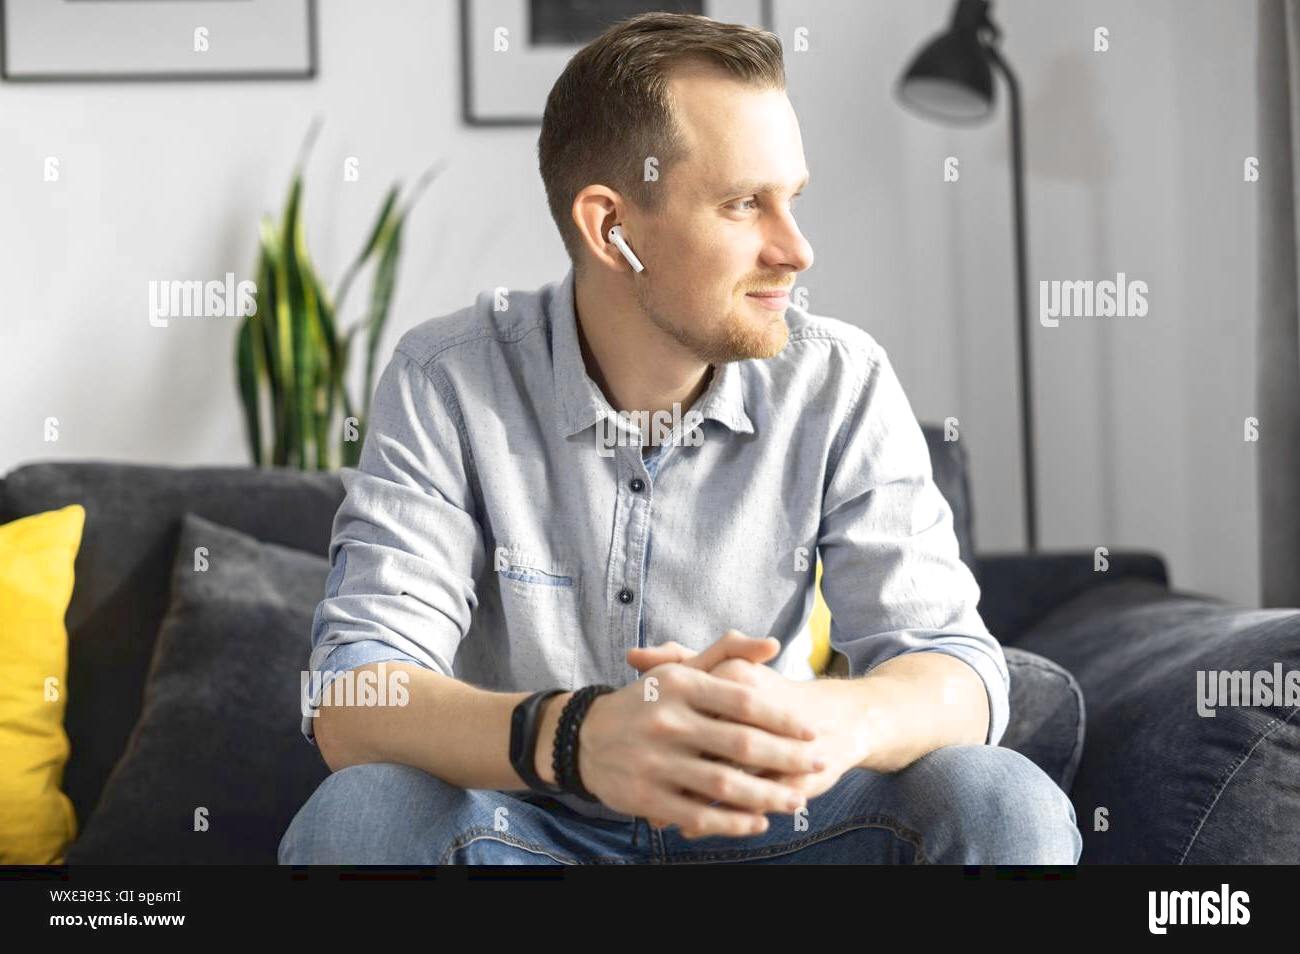earphone: (571, 183, 646, 275)
